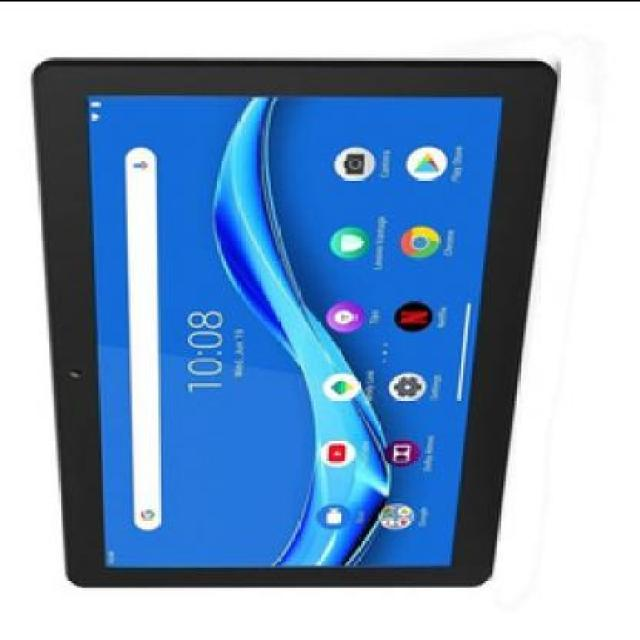tablet: (14, 31, 564, 613)
